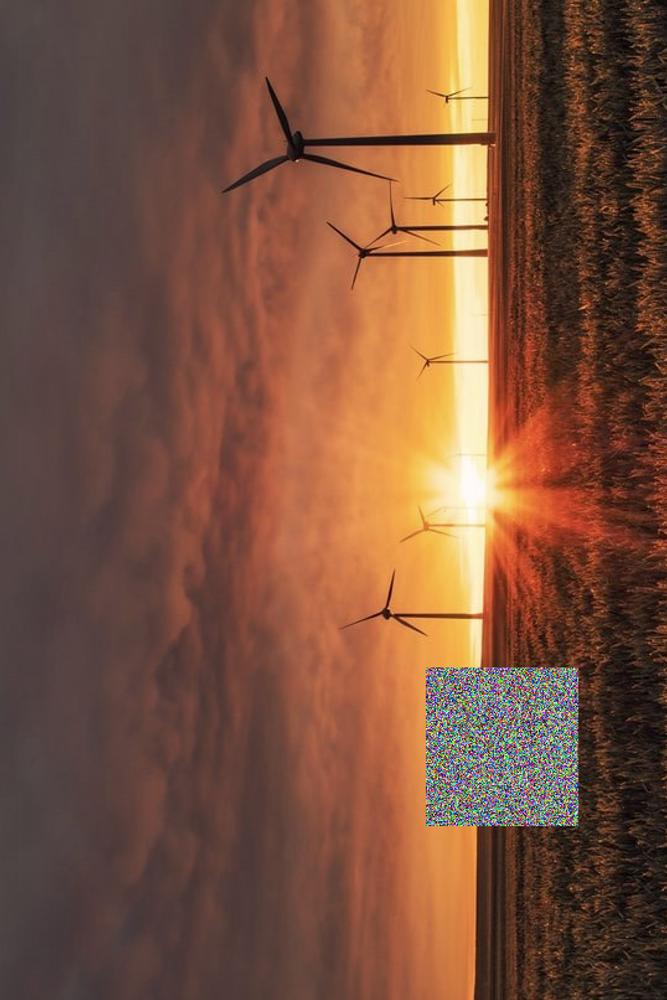working: (180, 74, 429, 191), (306, 570, 471, 650)
